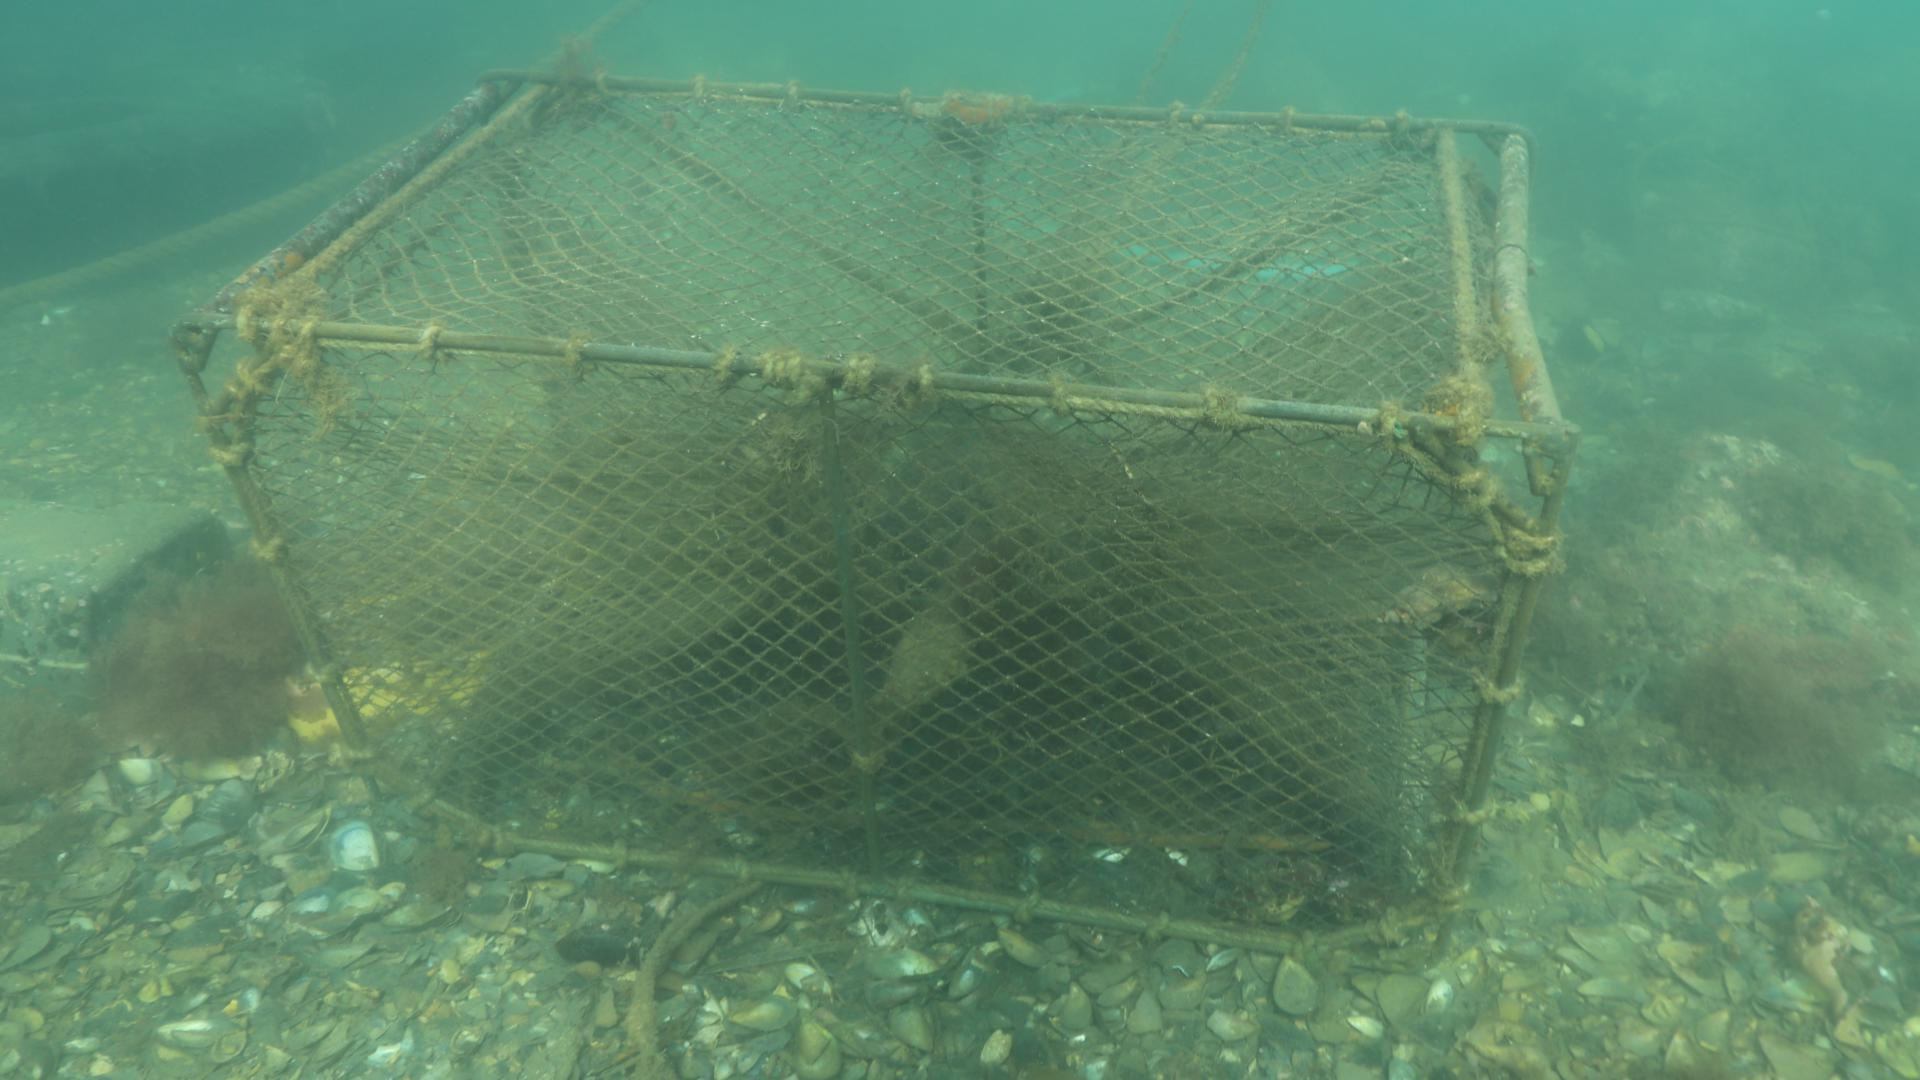rectangular fish trap: (171, 65, 1577, 972)
